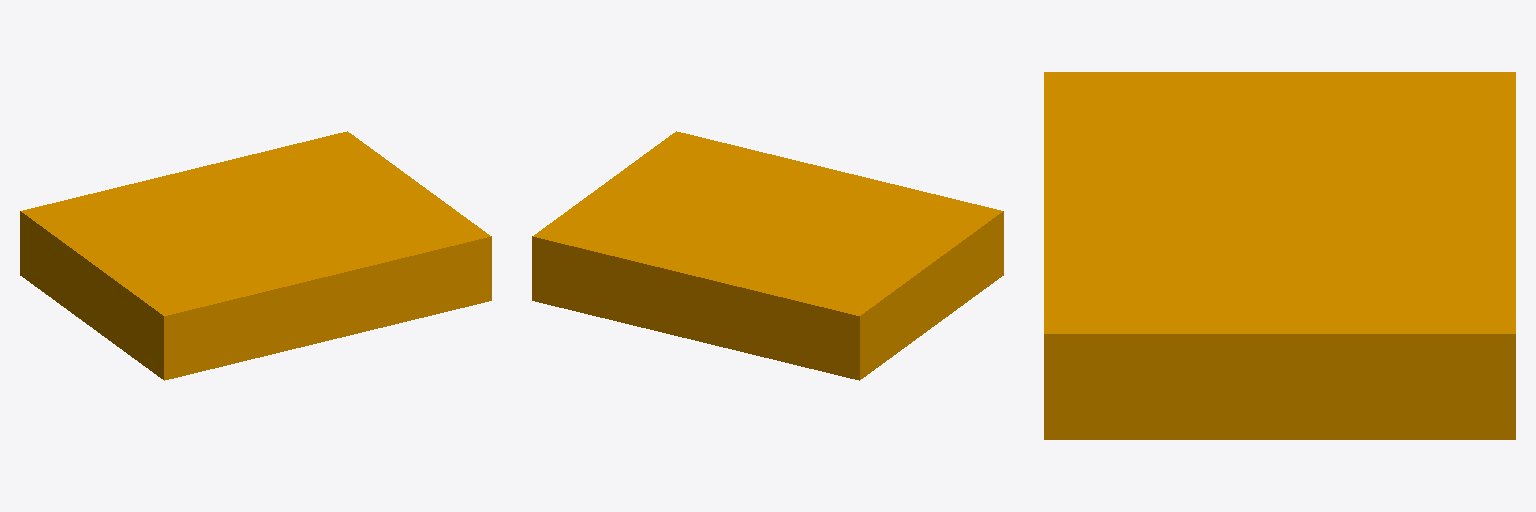
robot.urdf — oat:
<?xml version="1.0"?>
<robot name="oat">
  <link name="oat">
    <inertial>
        <origin rpy="0 0 0" xyz="0 0 0"/>
        <mass value="0.001"/>
        <inertia ixx="2e-5" ixy="0" ixz="0" iyy="2e-5" iyz="0" izz="2e-5"/>
    </inertial>
    <visual>
      <geometry>
        <mesh filename="Oat.obj"/>
      </geometry>
    </visual>
    <collision>
      <geometry>
        <mesh filename="Oat.obj"/>
      </geometry>
    </collision>
  </link>
</robot>

--- What the picture shows (computed from the rendered views, not written in the file) ---
Views: 3 orthographic renders of the robot side by side, from view 1: azimuth 30°, elevation 25°; view 2: azimuth 150°, elevation 25°; view 3: azimuth 270°, elevation 25°.
Robot: oat — 1 links, 0 joints (none); root link oat; default pose: every joint at zero.
Visible links, largest first — view 1: oat; view 2: oat; view 3: oat.
Boxes of the visible links, x1,y1,x2,y2 form: oat: [20, 131, 491, 380]; oat: [532, 131, 1003, 380]; oat: [1044, 72, 1515, 439].
Bounding box of the posed robot: 0.0243 × 0.0185 × 0.0046 m (x, y, z).
1 mesh visuals loaded from 1 distinct referenced files (1 OBJ).
